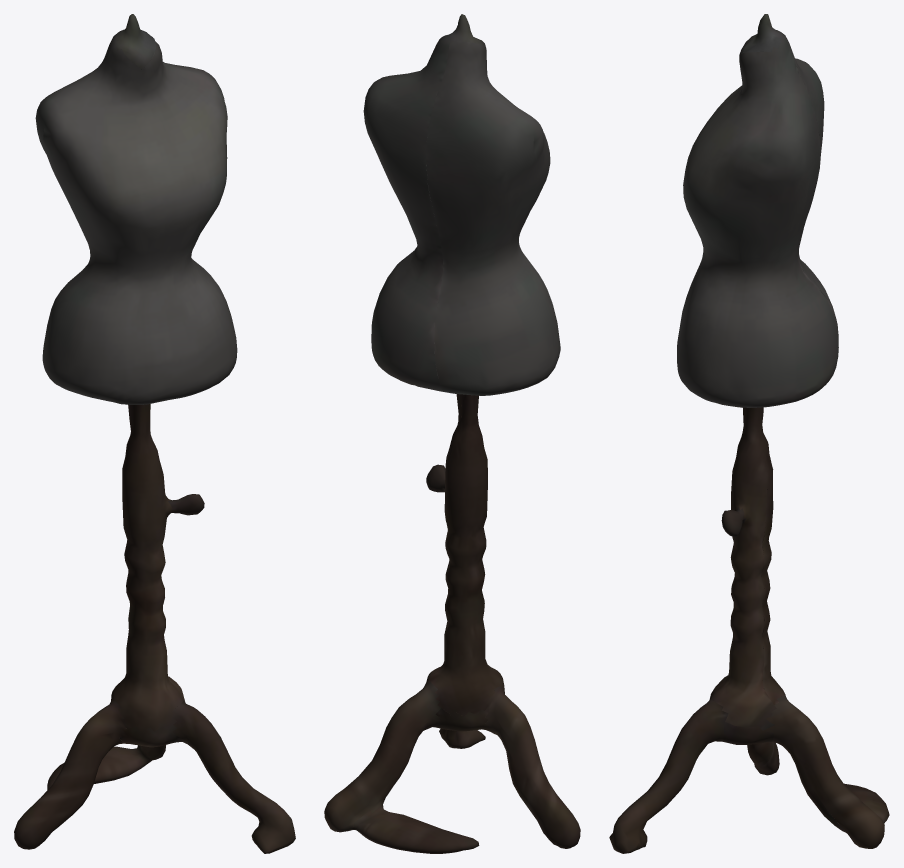
The model's file is ropa_1900_dress_form.glb.
3 renders of one model, left to right at view 1: azimuth 30°, elevation 25°; view 2: azimuth 150°, elevation 25°; view 3: azimuth 270°, elevation 25°, orthographic.
Visible parts, largest first — view 1: Ivanovo dress form_Man1_0; view 2: Ivanovo dress form_Man1_0; view 3: Ivanovo dress form_Man1_0.
Boxes of the visible parts, x1,y1,x2,y2 form: Ivanovo dress form_Man1_0: (14, 14, 295, 853); Ivanovo dress form_Man1_0: (324, 14, 580, 853); Ivanovo dress form_Man1_0: (609, 14, 889, 853).
Size of the model in its own units: 0.4343 by 1.6 by 0.5019.
Materials: 1 (1 with a texture image).
